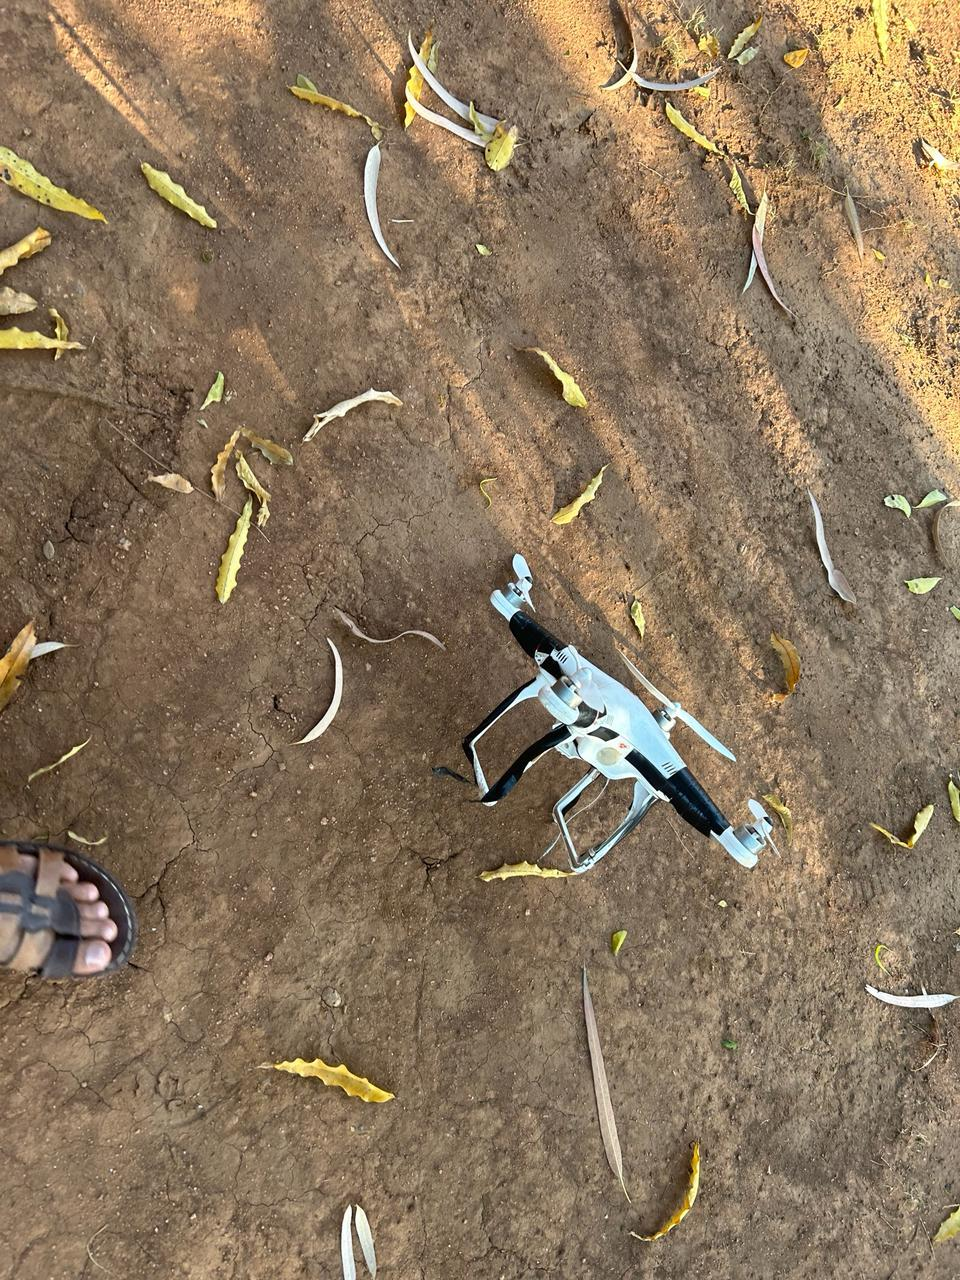drone: (218, 404, 956, 997)
